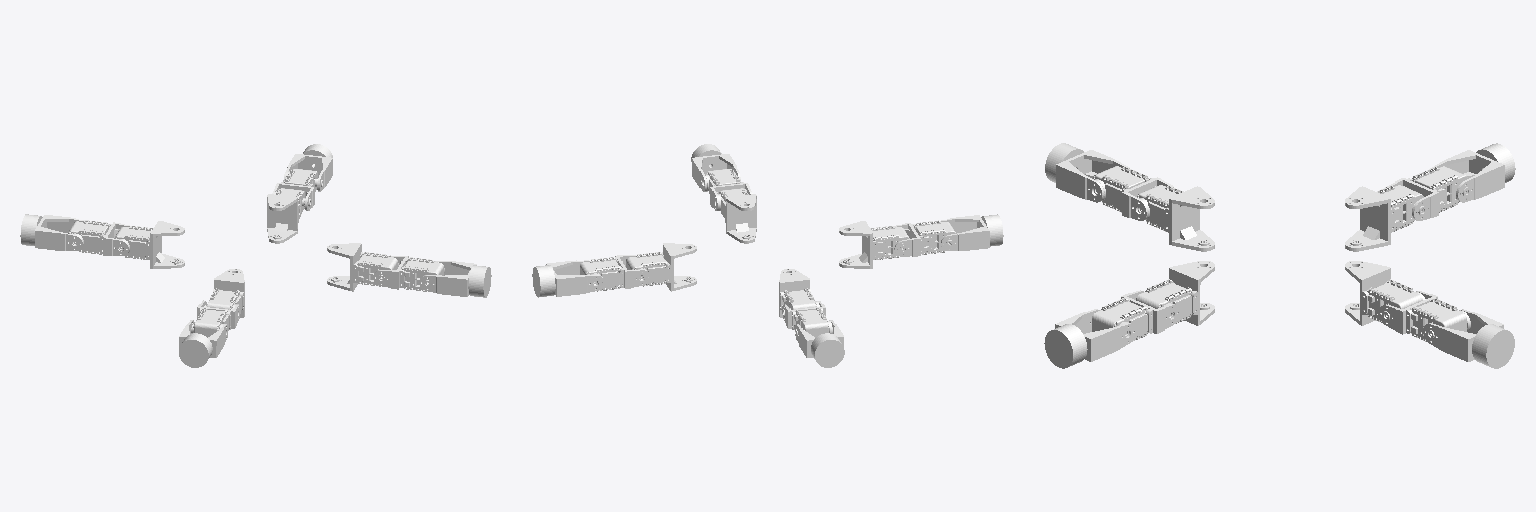
The robot description file, URDF, robot "4_legged_robot":
<?xml version="1.0"?>
<robot name="4_legged_robot">
    <link name="base_link">
        <visual>
            <origin xyz="0 0 0" rpy="0 0 0"/>
            <geometry>
                <mesh filename="package://lux_description/meshes/body.dae" scale="1 1 1"/>
            </geometry>
            <material name="white">
                <color rgba="1 1 1 1"/>
            </material>
        </visual>
    </link>

    <link name="1_link1">
        <visual>
            <origin xyz="0 0 0" rpy="0.0 0.0 0.0"/>
            <geometry>
                <mesh filename="package://lux_description/meshes/link1.dae" scale="1 1 1"/>
            </geometry>
            <material name="white">
                <color rgba="1 1 1 1"/>
            </material>
        </visual>
        <inertial>
            <mass value="0"/>
            <inertia ixx="0" ixy="0" ixz="0" iyy="0" iyz="0" izz="0"/>
        </inertial>
    </link>

    <link name="2_link1">   
        <visual>    
            <origin xyz="0 0 0" rpy="0.0 0.0 0.0"/>
            <geometry>
                <mesh filename="package://lux_description/meshes/link1.dae" scale="1 1 1"/>
            </geometry>
            <material name="white">
                <color rgba="1 1 1 1"/>
            </material>
        </visual>
        <inertial>
            <mass value="0"/>
            <inertia ixx="0" ixy="0" ixz="0" iyy="0" iyz="0" izz="0"/>
        </inertial>
    </link>

    <link name="3_link1">   
        <visual>    
            <origin xyz="0 0 0" rpy="0.0 0.0 0.0"/>
            <geometry>
                <mesh filename="package://lux_description/meshes/link1.dae" scale="1 1 1"/>
            </geometry>
            <material name="white">
                <color rgba="1 1 1 1"/>
            </material>
        </visual>
        <inertial>
            <mass value="0"/>
            <inertia ixx="0" ixy="0" ixz="0" iyy="0" iyz="0" izz="0"/>
        </inertial>
    </link>

    <link name="4_link1">   
        <visual>    
            <origin xyz="0 0 0" rpy="0.0 0.0 0.0"/>
            <geometry>
                <mesh filename="package://lux_description/meshes/link1.dae" scale="1 1 1"/>
            </geometry>
            <material name="white">
                <color rgba="1 1 1 1"/>
            </material>
        </visual>
        <inertial>
            <mass value="0"/>
            <inertia ixx="0" ixy="0" ixz="0" iyy="0" iyz="0" izz="0"/>
        </inertial>
    </link>

    <link name="1_link2">   
        <visual>    
            <origin xyz="0 0 0" rpy="0.0 0.0 0.0"/>
            <geometry>
                <mesh filename="package://lux_description/meshes/link2.dae" scale="1 1 1"/>
            </geometry>
            <material name="white">
                <color rgba="1 1 1 1"/>
            </material>
            <inertial>
                <mass value="0"/>
                <inertia ixx="0" ixy="0" ixz="0" iyy="0" iyz="0" izz="0"/>
            </inertial>
        </visual>
    </link>

    <link name="2_link2">   
        <visual>    
            <origin xyz="0 0 0" rpy="0.0 0.0 0.0"/>
            <geometry>
                <mesh filename="package://lux_description/meshes/link2.dae" scale="1 1 1"/>
            </geometry>
            <material name="white">
                <color rgba="1 1 1 1"/>
            </material>
            <inertial>  
                <mass value="0"/>
                <inertia ixx="0" ixy="0" ixz="0" iyy="0" iyz="0" izz="0"/>
            </inertial>
        </visual>
    </link>

    <link name="3_link2">   
        <visual>    
            <origin xyz="0 0 0" rpy="0.0 0.0 0.0"/>
            <geometry>
                <mesh filename="package://lux_description/meshes/link2.dae" scale="1 1 1"/>
            </geometry>
            <material name="white">
                <color rgba="1 1 1 1"/>
            </material>
            <inertial>  
                <mass value="0"/>
                <inertia ixx="0" ixy="0" ixz="0" iyy="0" iyz="0" izz="0"/>
            </inertial>
        </visual>
    </link>

    <link name="4_link2">   
        <visual>    
            <origin xyz="0 0 0" rpy="0.0 0.0 0.0"/>
            <geometry>
                <mesh filename="package://lux_description/meshes/link2.dae" scale="1 1 1"/>
            </geometry>
            <material name="white">
                <color rgba="1 1 1 1"/>
            </material>
        </visual>
        <inertial>
            <mass value="0"/>
            <inertia ixx="0" ixy="0" ixz="0" iyy="0" iyz="0" izz="0"/>
        </inertial>
    </link>

    <link name="1_link3">   
        <visual>    
            <origin xyz="0 0 0" rpy="0.0 0.0 0.0"/>
            <geometry>
                <mesh filename="package://lux_description/meshes/link3.dae" scale="1 1 1"/>
            </geometry>
            <material name="white">
                <color rgba="1 1 1 1"/>
            </material>
            <inertial>  
                <mass value="0"/>
                <inertia ixx="0" ixy="0" ixz="0" iyy="0" iyz="0" izz="0"/>
            </inertial>
        </visual>
    </link>

    <link name="2_link3">   
        <visual>    
            <origin xyz="0 0 0" rpy="0.0 0.0 0.0"/>
            <geometry>
                <mesh filename="package://lux_description/meshes/link3.dae" scale="1 1 1"/>
            </geometry>
            <material name="white">
                <color rgba="1 1 1 1"/>
            </material>
            <inertial>  
                <mass value="0"/>
                <inertia ixx="0" ixy="0" ixz="0" iyy="0" iyz="0" izz="0"/>
            </inertial>
        </visual>
    </link>
    
    <link name="3_link3">   
        <visual>    
            <origin xyz="0 0 0" rpy="0.0 0.0 0.0"/>
            <geometry>
                <mesh filename="package://lux_description/meshes/link3.dae" scale="1 1 1"/>
            </geometry>
            <material name="white">
                <color rgba="1 1 1 1"/>
            </material>
            <inertial>  
                <mass value="0"/>
                <inertia ixx="0" ixy="0" ixz="0" iyy="0" iyz="0" izz="0"/>
            </inertial>
        </visual>
    </link>

    <link name="4_link3">   
        <visual>    
            <origin xyz="0 0 0" rpy="0.0 0.0 0.0"/>
            <geometry>
                <mesh filename="package://lux_description/meshes/link3.dae" scale="1 1 1"/>
            </geometry>
            <material name="white">
                <color rgba="1 1 1 1"/>
            </material>
            <inertial>  
                <mass value="0"/>
                <inertia ixx="0" ixy="0" ixz="0" iyy="0" iyz="0" izz="0"/>
            </inertial>
        </visual>
    </link>

    <joint name="1_link1_joint" type="revolute">
        <parent link="base_link"/>
        <child link="1_link1"/>
        <origin xyz="0.072933 0.074926 -0.0085" rpy="-1.57 0 -2.356194"/>
        <axis xyz="0 1 0"/>
        <limit lower="-3.14" upper="3.14" effort="100" velocity="1"/>
    </joint>

    <joint name="2_link1_joint" type="revolute">    
        <parent link="base_link"/>
        <child link="2_link1"/>
        <origin xyz="0.072933 -0.074926 -0.0085" rpy="-1.57 0 2.356194"/>
        <axis xyz="0 1 0"/>
        <limit lower="-3.14" upper="3.14" effort="100" velocity="1"/>
    </joint>

    <joint name="3_link1_joint" type="revolute">    
        <parent link="base_link"/>
        <child link="3_link1"/>
        <origin xyz="-0.076918 -0.074926 -0.0085" rpy="-1.57 0 0.785398"/>
        <axis xyz="0 1 0"/>
        <limit lower="-3.14" upper="3.14" effort="100" velocity="1"/>
    </joint>
    
    <joint name="4_link1_joint" type="revolute">    
        <parent link="base_link"/>
        <child link="4_link1"/>
        <origin xyz="-0.076918 0.074926 -0.0085" rpy="-1.57 0 -0.785398"/>
        <axis xyz="0 1 0"/>
        <limit lower="-3.14" upper="3.14" effort="100" velocity="1"/>
    </joint>

    <joint name="1_link2_joint" type="revolute">    
        <parent link="1_link1"/>
        <child link="1_link2"/>
        <origin xyz="-0.0675 -0.0267 0.0255" rpy="1.57 0 1.57"/>
        <axis xyz="0 1 0"/>
        <limit lower="-3.14" upper="3.14" effort="100" velocity="1"/>
    </joint>

    <joint name="2_link2_joint" type="revolute">    
        <parent link="2_link1"/>
        <child link="2_link2"/>
        <origin xyz="-0.0675 -0.0267 0.0255" rpy="1.57 0 1.57"/>
        <axis xyz="0 1 0"/>
        <limit lower="-3.14" upper="3.14" effort="100" velocity="1"/>
    </joint>

    <joint name="3_link2_joint" type="revolute">    
        <parent link="3_link1"/>
        <child link="3_link2"/>
        <origin xyz="-0.0675 -0.0267 0.0255" rpy="1.57 0 1.57"/>
        <axis xyz="0 1 0"/>
        <limit lower="-3.14" upper="3.14" effort="100" velocity="1"/>
    </joint>

    <joint name="4_link2_joint" type="revolute">    
        <parent link="4_link1"/>
        <child link="4_link2"/>
        <origin xyz="-0.0675 -0.0267 0.0255" rpy="1.57 0 1.57"/>
        <axis xyz="0 1 0"/>
        <limit lower="-3.14" upper="3.14" effort="100" velocity="1"/>
    </joint>

    <joint name="1_link3_joint" type="revolute">    
        <parent link="1_link2"/>
        <child link="1_link3"/>
        <origin xyz="0.0 -0.05 -0.0615" rpy="0.0 0.0 -3.14"/>
        <axis xyz="0 1 0"/>
        <limit lower="-3.14" upper="3.14" effort="100" velocity="1"/>
    </joint>

    <joint name="2_link3_joint" type="revolute">    
        <parent link="2_link2"/>
        <child link="2_link3"/>
        <origin xyz="0.0 -0.05 -0.0615" rpy="0.0 0.0 -3.14"/>
        <axis xyz="0 1 0"/>
        <limit lower="-3.14" upper="3.14" effort="100" velocity="1"/>
    </joint>

    <joint name="3_link3_joint" type="revolute">    
        <parent link="3_link2"/>
        <child link="3_link3"/>
        <origin xyz="0.0 -0.05 -0.0615" rpy="0.0 0.0 -3.14"/>
        <axis xyz="0 1 0"/>
        <limit lower="-3.14" upper="3.14" effort="100" velocity="1"/>
    </joint>

    <joint name="4_link3_joint" type="revolute">    
        <parent link="4_link2"/>
        <child link="4_link3"/>
        <origin xyz="0.0 -0.05 -0.0615" rpy="0.0 0.0 -3.14"/>
        <axis xyz="0 1 0"/>
        <limit lower="-3.14" upper="3.14" effort="100" velocity="1"/>
    </joint>
</robot>

--- What the picture shows (computed from the rendered views, not written in the file) ---
Views: 3 orthographic renders of the robot side by side, from view 1: azimuth 30°, elevation 25°; view 2: azimuth 150°, elevation 25°; view 3: azimuth 270°, elevation 25°.
Model 4_legged_robot with 13 links and 12 joints (12 revolute), rooted at base_link, posed every joint at zero.
Visible links, largest first — view 1: 2_link3, 4_link1, 4_link3, 2_link1, 1_link1, 4_link2, 2_link2, 3_link3, 3_link1, 1_link3, 3_link2, 1_link2; view 2: 1_link3, 3_link1, 3_link3, 1_link1, 2_link1, 1_link2, 3_link2, 4_link3, 4_link1, 2_link3, 4_link2, 2_link2; view 3: 4_link1, 3_link1, 2_link3, 1_link3, 2_link1, 1_link1, 4_link3, 3_link3, 1_link2, 2_link2, 3_link2, 4_link2.
Boxes of the visible links, x1,y1,x2,y2 form: 2_link3: (420, 261, 491, 297); 4_link1: (114, 221, 184, 268); 4_link3: (20, 214, 87, 250); 2_link1: (327, 243, 398, 291); 1_link1: (267, 188, 305, 243); 4_link2: (68, 220, 133, 255); 2_link2: (373, 255, 444, 291); 3_link3: (179, 320, 228, 367); 3_link1: (207, 269, 244, 317); 1_link3: (283, 144, 332, 191); 3_link2: (193, 300, 240, 337); 1_link2: (272, 169, 317, 210); 1_link3: (532, 260, 603, 297); 3_link1: (839, 221, 909, 268); 3_link3: (936, 214, 1003, 250); 1_link1: (626, 243, 696, 291); 2_link1: (718, 188, 756, 243); 1_link2: (580, 255, 650, 291); 3_link2: (890, 220, 955, 256); 4_link3: (795, 320, 844, 367); 4_link1: (779, 269, 819, 317); 2_link3: (691, 144, 740, 191); 4_link2: (782, 301, 832, 337); 2_link2: (705, 169, 752, 210); 4_link1: (1345, 185, 1423, 251); 3_link1: (1137, 185, 1214, 251); 2_link3: (1044, 309, 1135, 368); 1_link3: (1423, 309, 1514, 368); 2_link1: (1136, 261, 1214, 325); 1_link1: (1345, 261, 1425, 325); 4_link3: (1430, 143, 1515, 202); 3_link3: (1045, 143, 1130, 202); 1_link2: (1379, 291, 1470, 341); 2_link2: (1092, 290, 1179, 341); 3_link2: (1093, 166, 1176, 220); 4_link2: (1385, 166, 1467, 220).
Size in the robot's own frame: 0.4643 by 0.4643 by 0.0515 metres.
Meshes: 4 distinct files referenced, 12 mesh visuals loaded (3 Collada DAE); not drawn: 1 (reference not matched to a file when rendering).